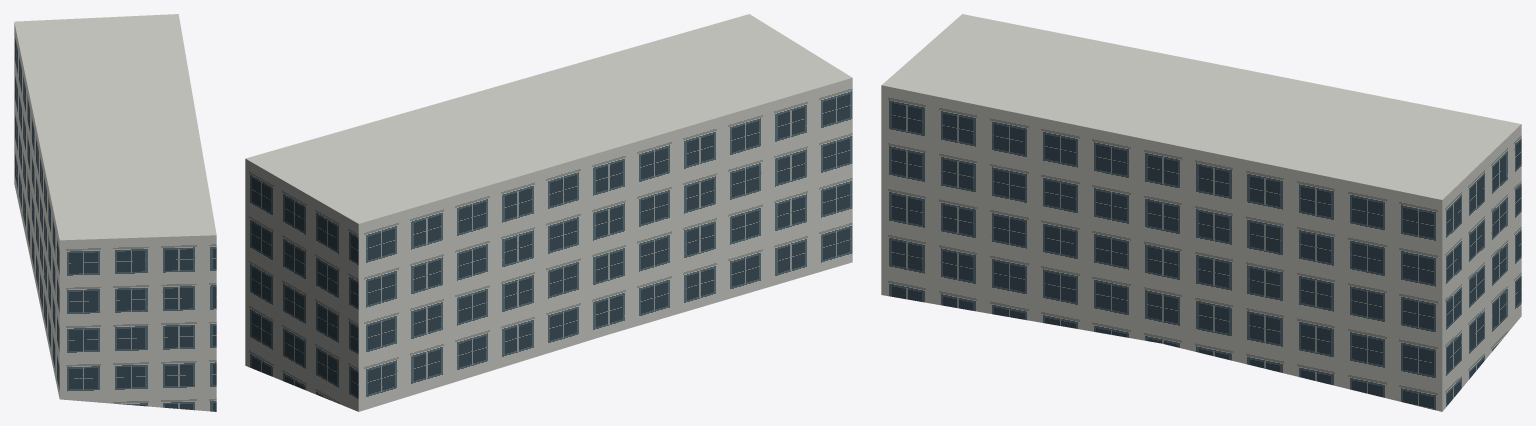
File: city_-5_-6.glb
The picture shows the model from 3 angles, left to right: view 1: azimuth 30°, elevation 25°; view 2: azimuth 150°, elevation 25°; view 3: azimuth 270°, elevation 25°; orthographic projection. The views are drawn at different scales.
Size of the model in its own units: 27.89 by 14.81 by 40.54.
1 material, 1 textured.
